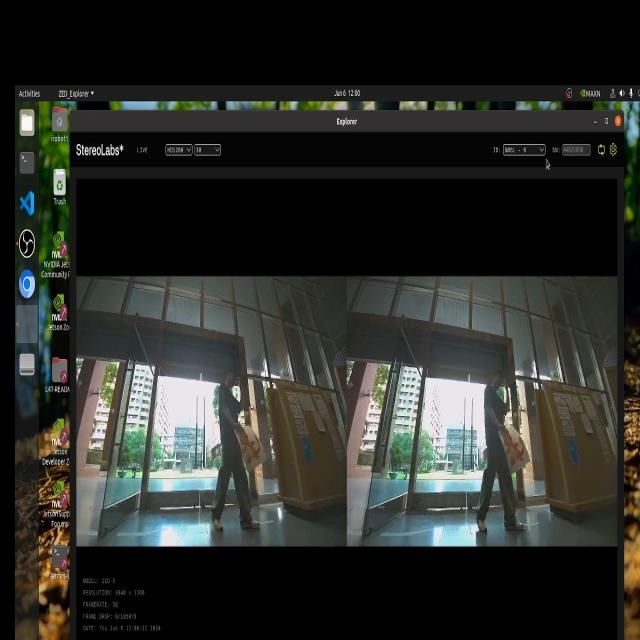red: (235, 430, 275, 481), (491, 424, 527, 468)
